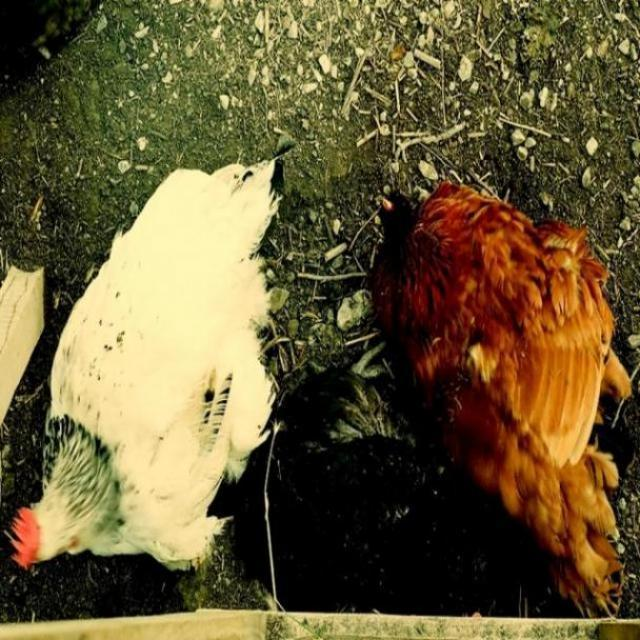Chicken: (1, 135, 296, 597), (0, 140, 292, 581), (365, 177, 632, 616)
